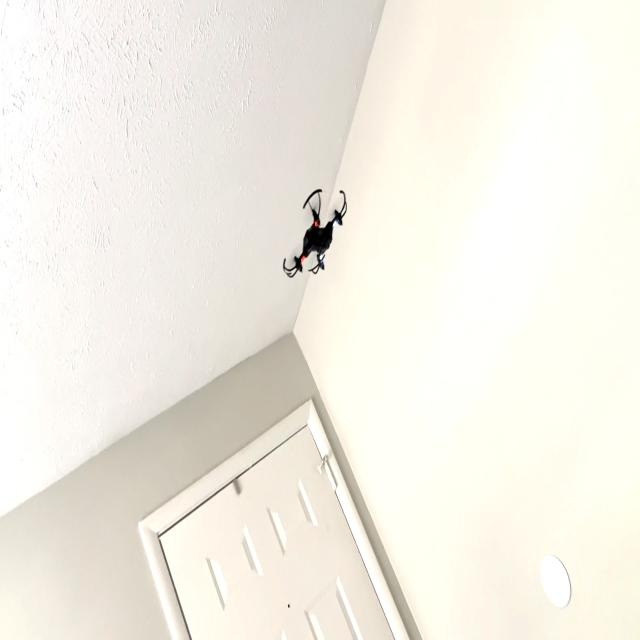drone: (276, 176, 352, 295)
